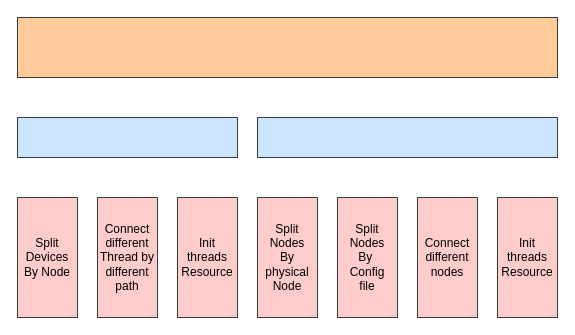
Image size: 575x335. Some labels were removed from this diagram. The shapes that lost their labels are listed below. From the top down, each one's box as (x1, y1, x2, y2) in pixels, then its label:
(16, 16, 558, 78): THREAD INIT
(16, 116, 238, 158): Create Thread for Cards
(256, 116, 558, 158): Create Thread for Nodes
